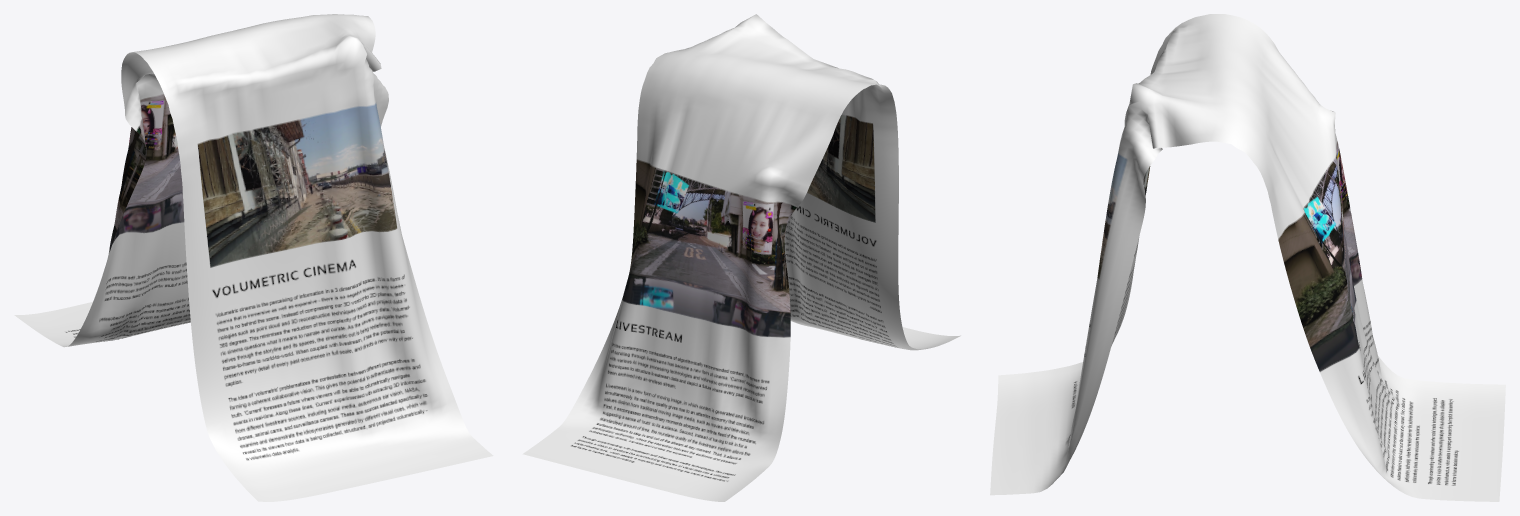
The model's file is LONG.obj.
The picture shows the model from 3 angles, left to right: view 1: azimuth 30°, elevation 25°; view 2: azimuth 150°, elevation 25°; view 3: azimuth 270°, elevation 25°; orthographic projection. The views are drawn at different scales.
Parts seen in each view (by area): view 1: pPlane3; view 2: pPlane3; view 3: pPlane3.
Boxes of the visible parts, x1,y1,x2,y2 form: pPlane3: (14, 14, 493, 501); pPlane3: (522, 14, 960, 501); pPlane3: (990, 14, 1505, 501).
Size of the model in its own units: 2.22 by 3.23 by 3.99.
